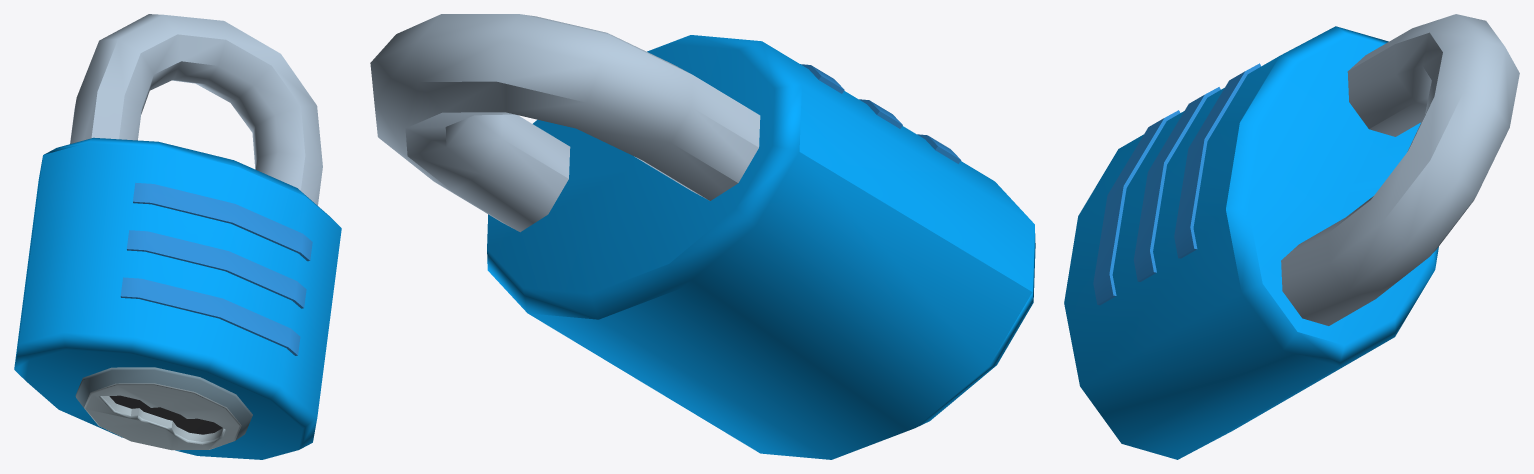
3 views of the same model, side by side, from view 1: azimuth 30°, elevation 25°; view 2: azimuth 150°, elevation 25°; view 3: azimuth 270°, elevation 25° (orthographic). The views are drawn at different scales.
Visible parts, largest first — view 1: model_0.025; view 2: model_0.025; view 3: model_0.025.
Part boxes in pixels (box(x1,y1,x2,y2)): model_0.025: box(14, 14, 341, 459); model_0.025: box(370, 14, 1035, 459); model_0.025: box(1064, 14, 1519, 459).
Bounding box in the file's own units: 3.98 × 3.61 × 3.47.
